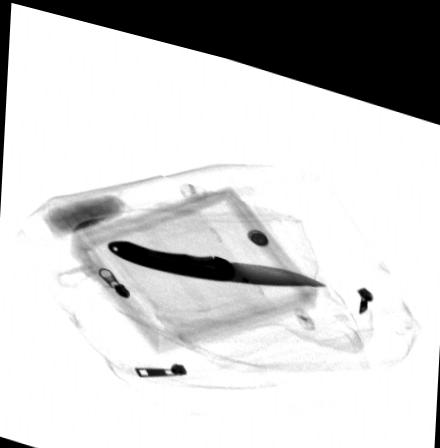Knife: (106, 233, 331, 273)
